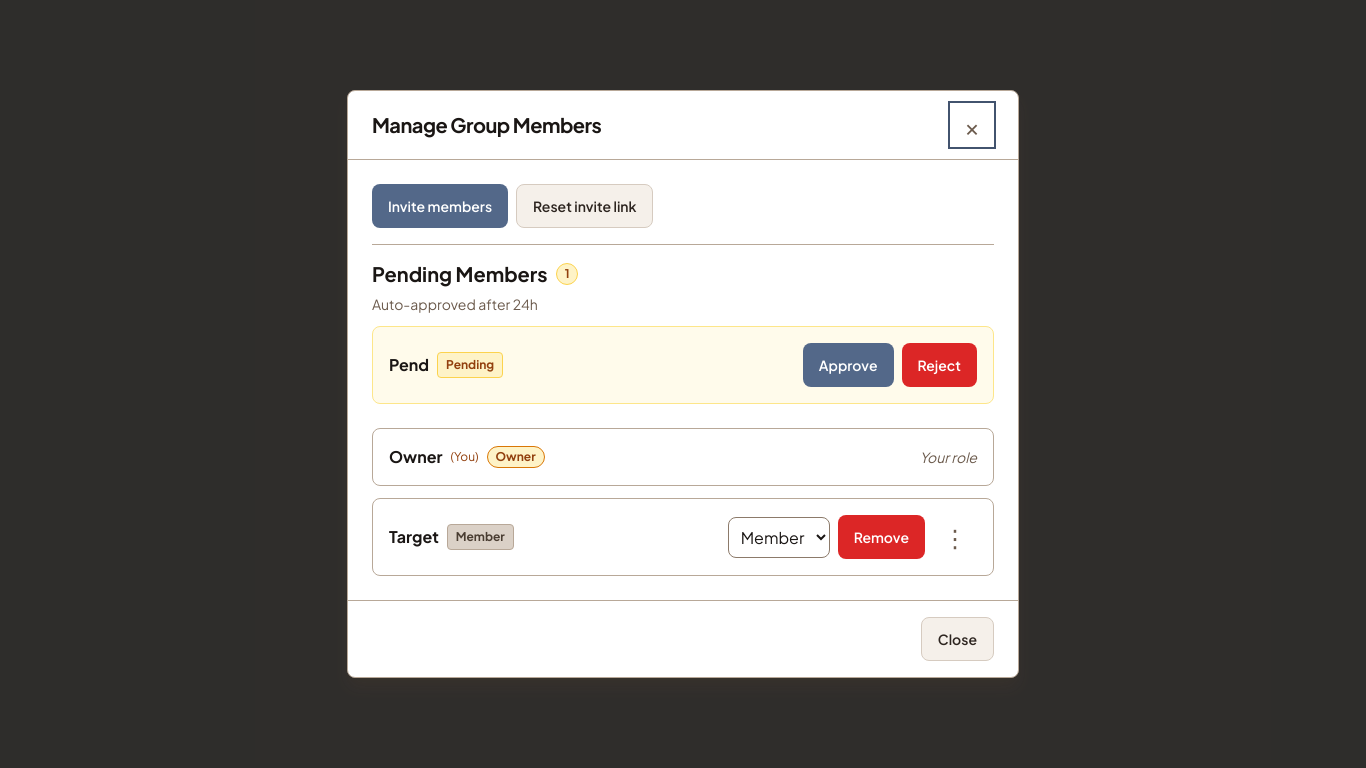
Test case: ManageMembers — Req 9 modal migration proof (transfer-ownership confirm) › closes on Escape
This screenshot has width=1366, height=768.
Expected: the dialog "Manage Group Members" is shown, [347,90,1019,678]
Click the button named "More actions for Target" at (955, 537), box [933,515,977,559]
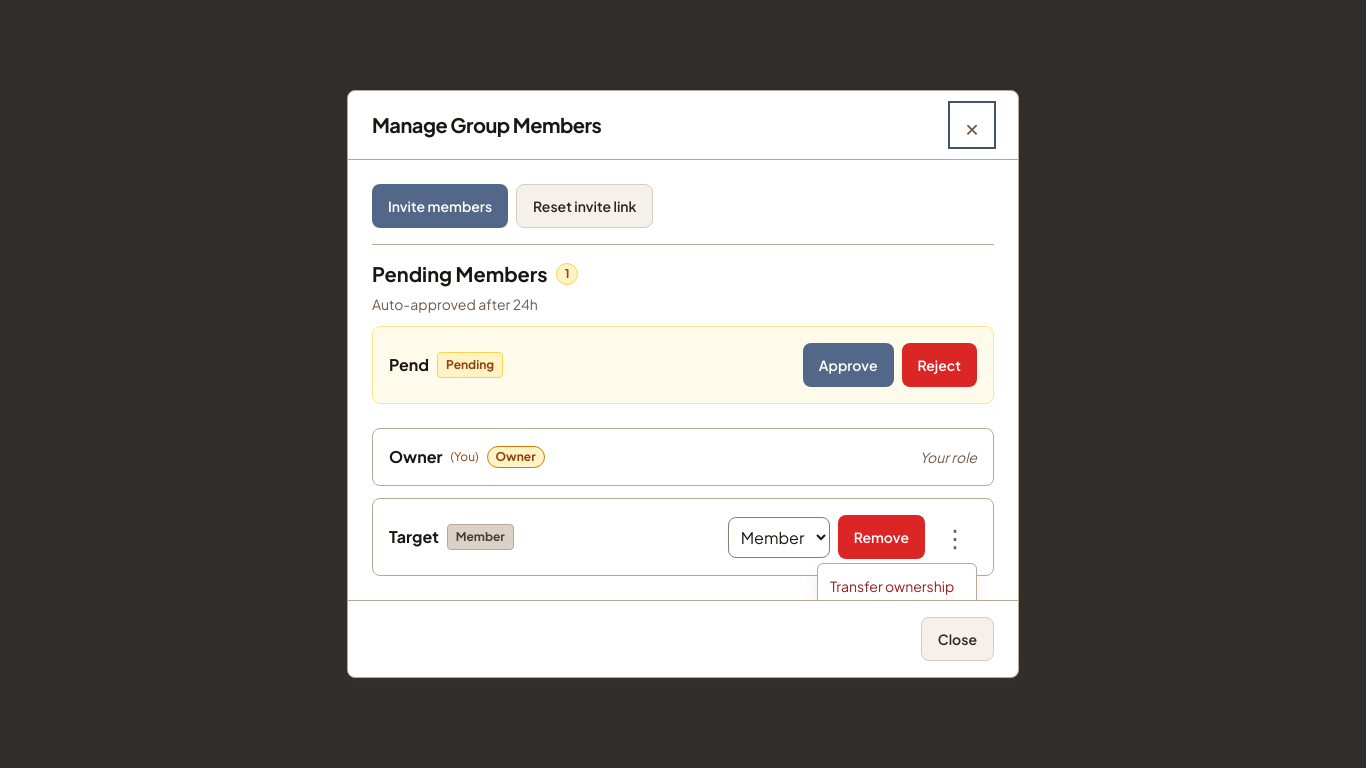
Click the button "Transfer ownership to this member" at (897, 596), box [818,568,976,624]
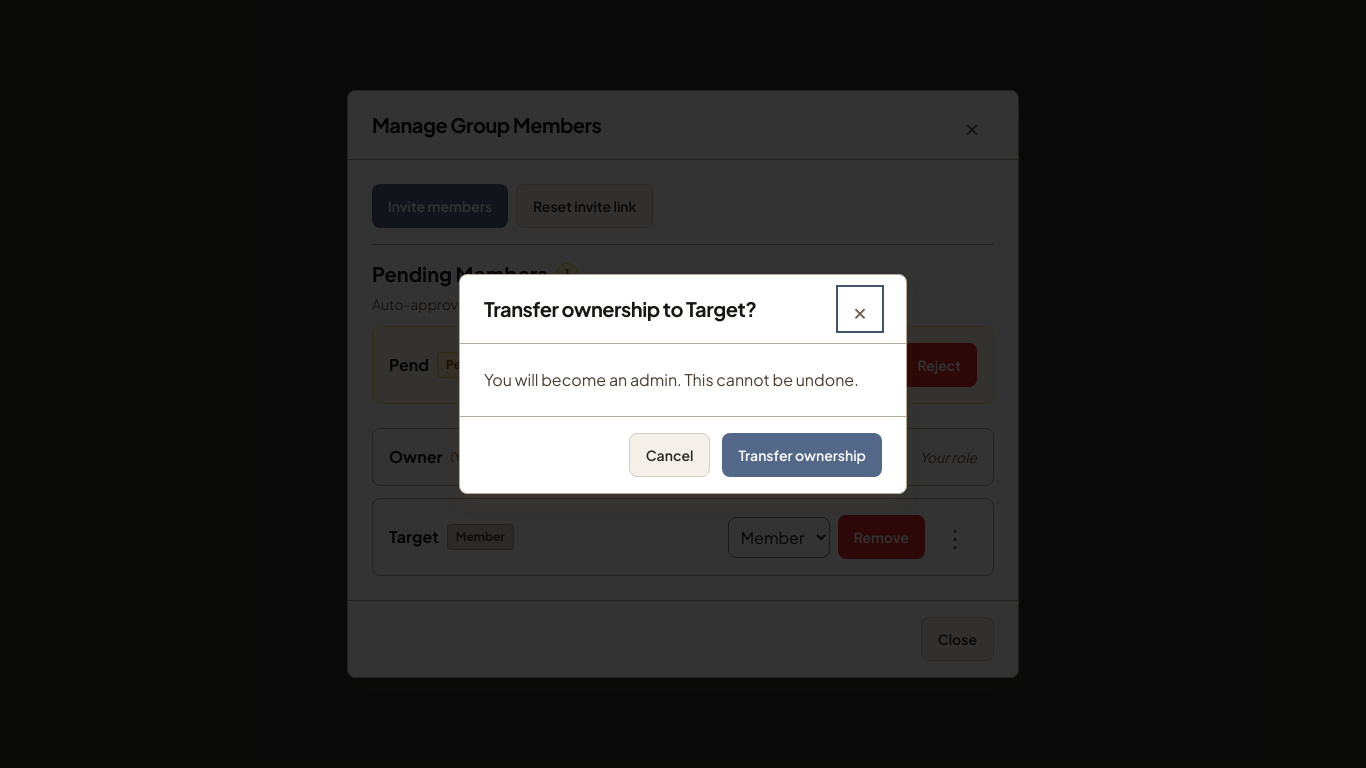
Result: the dialog "Transfer ownership to Target?" is shown at [459,274,907,494]
Press Escape
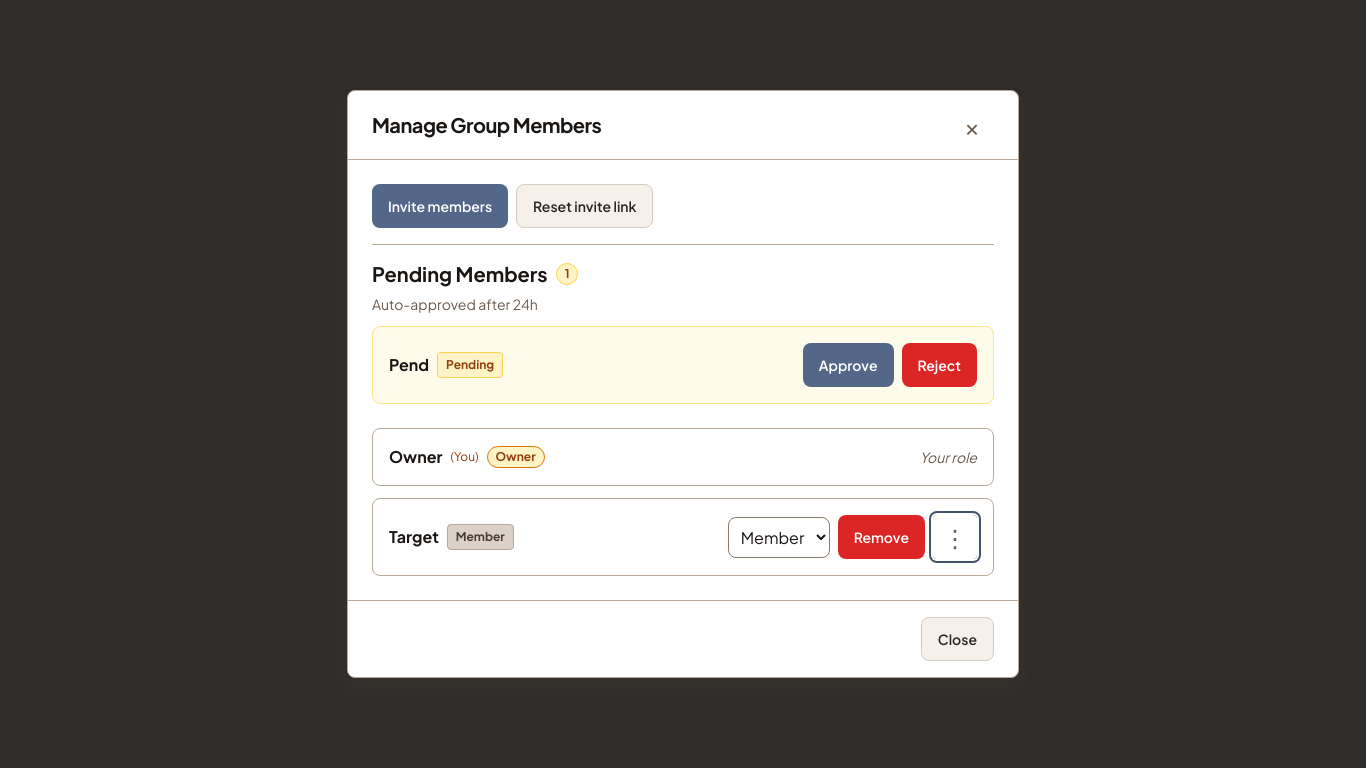
Result: the heading "Transfer ownership to Target?" is gone
